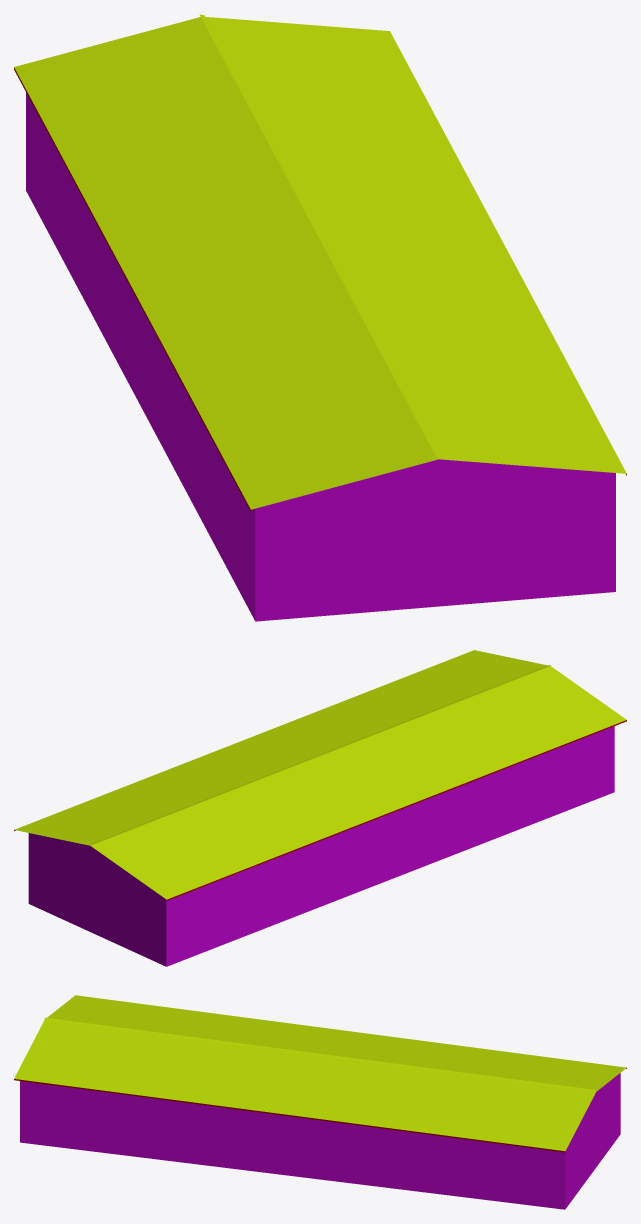
File: bgj_125.glb
The picture shows the model from 3 angles, top to bottom: view 1: azimuth 30°, elevation 25°; view 2: azimuth 150°, elevation 25°; view 3: azimuth 270°, elevation 25°; orthographic projection. The views are drawn at different scales.
Visible parts, largest first — view 1: bgj_125; view 2: bgj_125; view 3: bgj_125.
Part boxes in pixels (box(x1,y1,x2,y2)): bgj_125: box(14, 14, 626, 621); bgj_125: box(14, 650, 626, 966); bgj_125: box(14, 995, 626, 1209).
Bounding box in the file's own units: 30.13 × 7.55 × 50.02.
